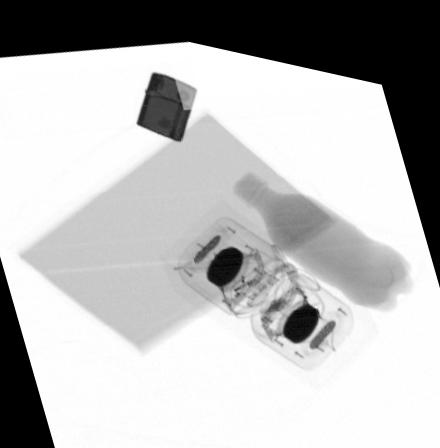Lighter: (135, 64, 198, 134)
